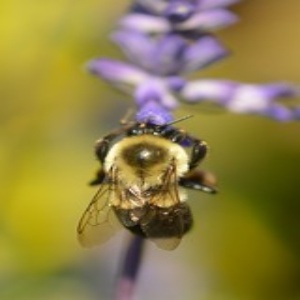bee: (90, 121, 208, 255)
